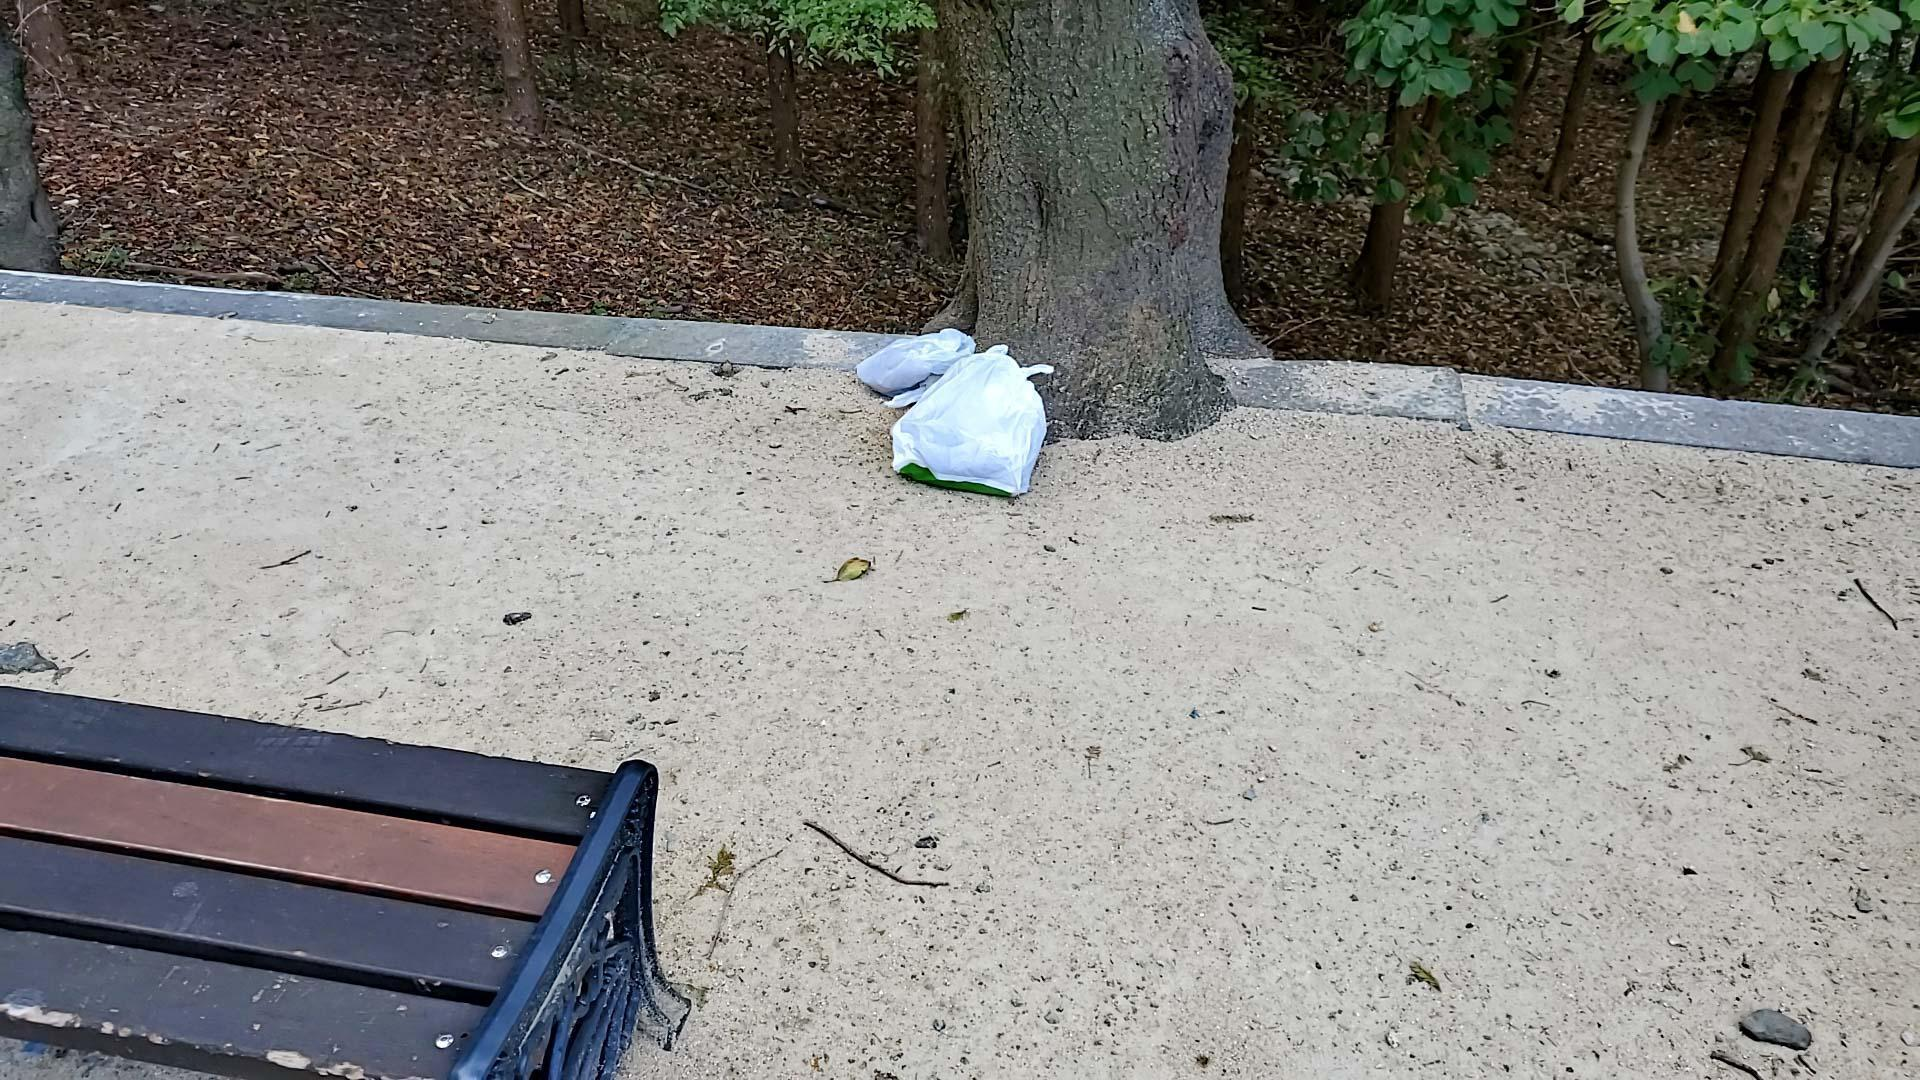white_bag: (882, 343, 1058, 506), (844, 320, 981, 401)
